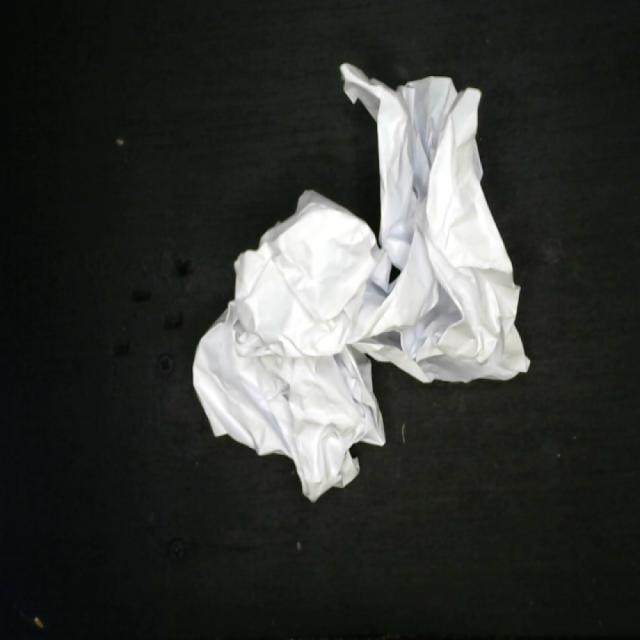biodegradable: (187, 54, 534, 508)
